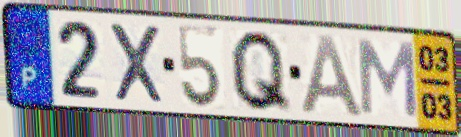2: (56, 18, 110, 102)
5: (175, 22, 225, 112)
A: (298, 32, 368, 121)
M: (355, 37, 420, 121)
Q: (228, 27, 295, 116)
X: (106, 19, 168, 107)
